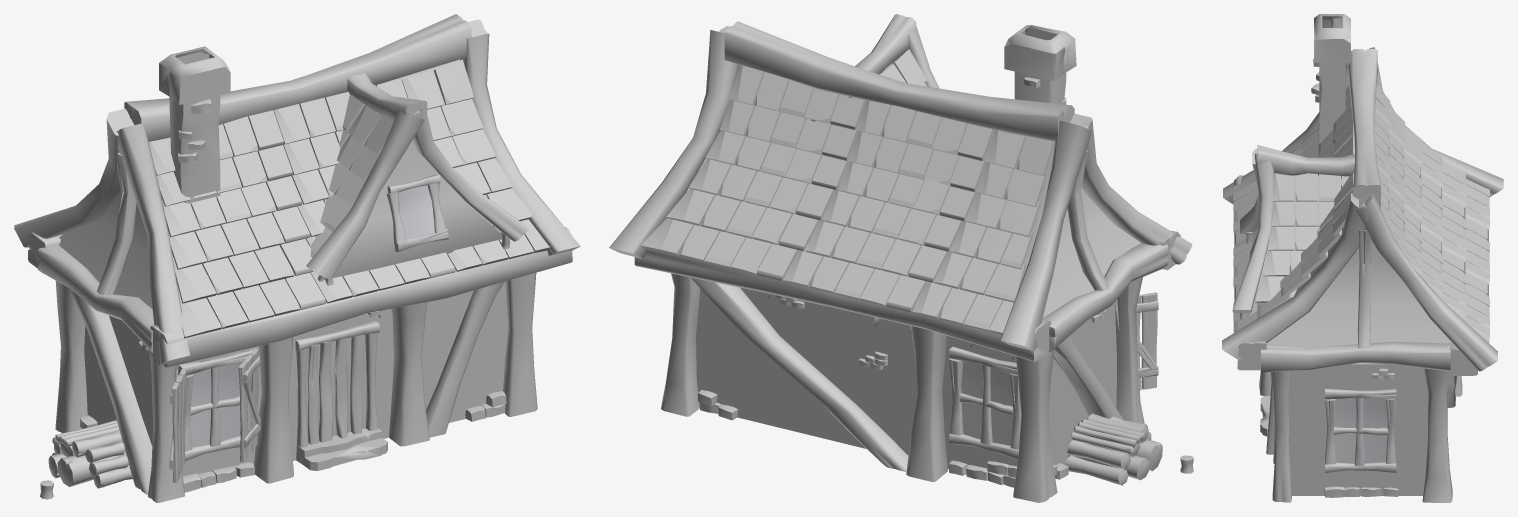
The model's file is CasaSeis.fbx.
The picture shows the model from 3 angles, left to right: view 1: azimuth 30°, elevation 25°; view 2: azimuth 150°, elevation 25°; view 3: azimuth 270°, elevation 25°; orthographic projection. The views are drawn at different scales.
Parts seen in each view (by area): view 1: Object081; view 2: Object081; view 3: Object081.
Part boxes in pixels (<box>): Object081: <box>14,14,580,502</box>; Object081: <box>609,14,1193,502</box>; Object081: <box>1222,14,1503,502</box>.
Size of the model in its own units: 3.1 by 2.45 by 1.78.
